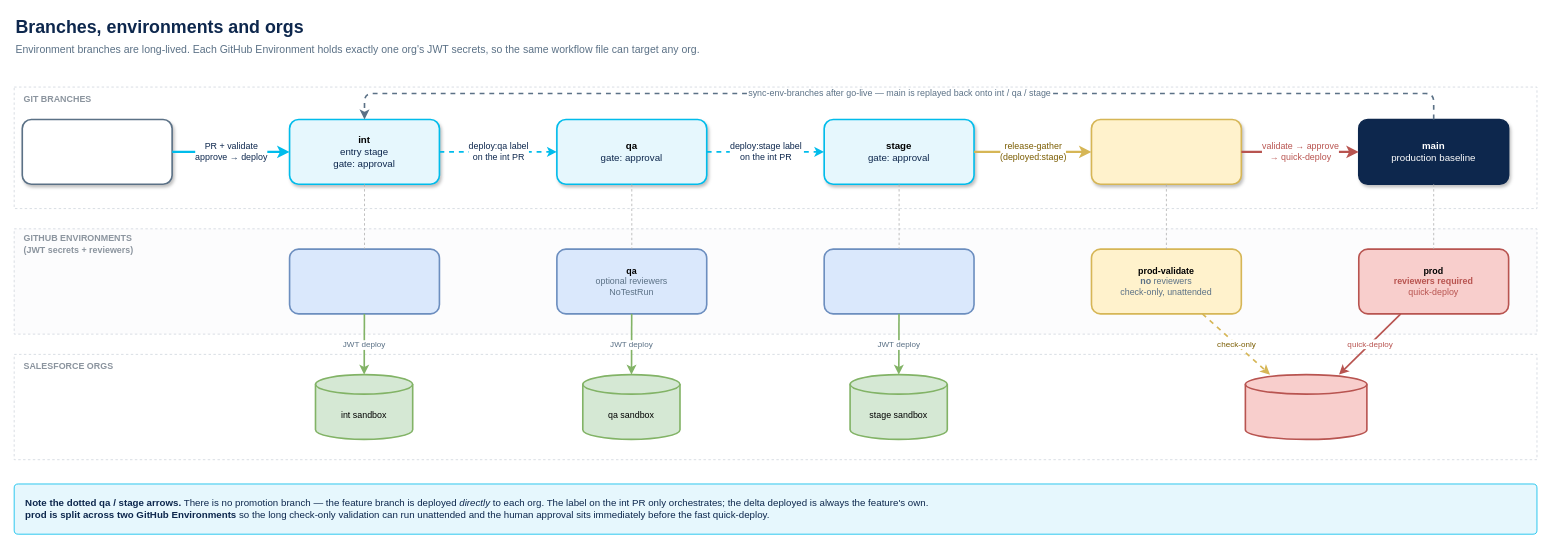
The diagram is 1551 pixels wide and 548 high, and some of its shapes have lost their labels. Each missing label, with the centre of its shape:
"feature/PROJ-### short-lived" belongs at pixel 97 152.
"int no reviewers RunSpecifiedTests" belongs at pixel 364 281.
"production (acmeprod)" belongs at pixel 1305 406.
"release/YYYY.WW cut from main" belongs at pixel 1167 152.
"stage optional reviewers NoTestRun" belongs at pixel 898 281.
